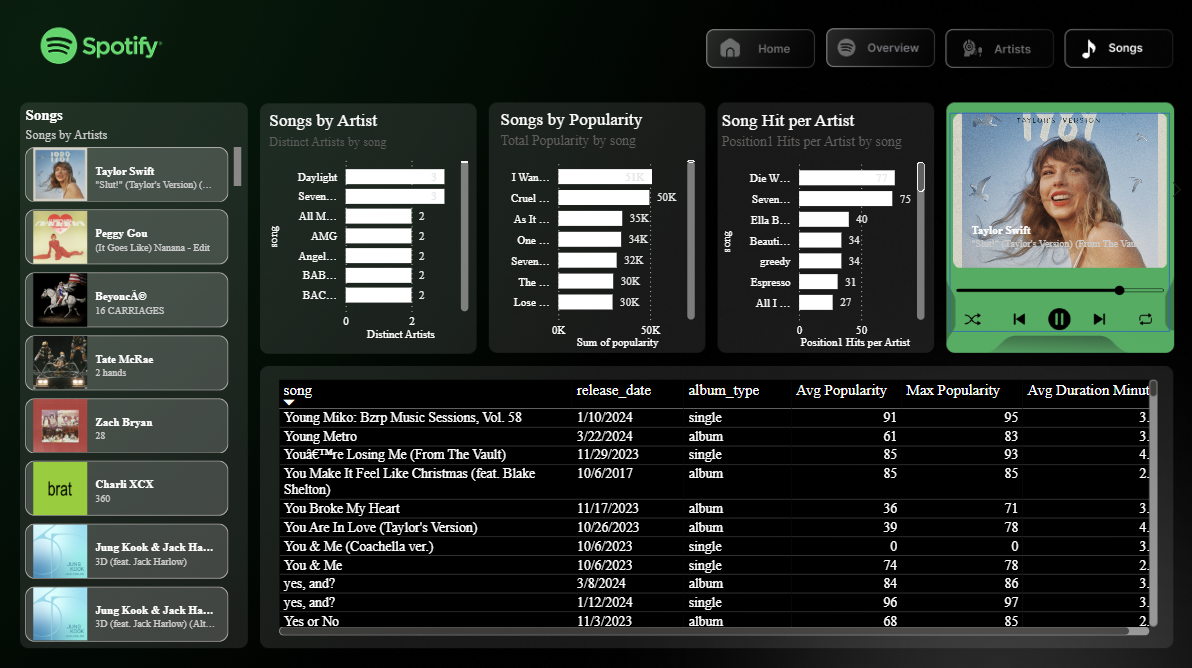

What the dashboard file says about the page in this screenshot:
{"tool":"powerbi","page":{"name":"Songs","canvas":[1280,720],"ordinal":3},"visuals":[{"type":"advancedSlicerVisual","title":"Songs","fields":{"Values":["Top-50-World.song"]},"box":[25,115,240,580],"z":0},{"type":"advancedSlicerVisual","title":"Songs","fields":{"Values":["Top-50-World.song"]},"box":[993.8,115,280,178.8],"z":1000},{"type":"image","box":[1008.6,259.5,250.6,140],"z":2000},{"type":"shape","box":[1016.7,121.7,235,233.8],"z":3000},{"type":"clusteredBarChart","title":"Songs by Artist","fields":{"Category":["Top-50-World.song"],"Y":["_Measures.Distinct Artists"]},"box":[284.8,119.1,222.7,249.8],"z":4000},{"type":"clusteredBarChart","title":"Songs by Popularity","fields":{"Category":["Top-50-World.song"],"Y":["Sum(Top-50-World.popularity)"]},"box":[532.5,117.5,217.5,260],"z":5000},{"type":"clusteredBarChart","title":"Song Hit per Artist","fields":{"Y":["_Measures.Position1 Hits per Artist"],"Category":["Top-50-World.song"]},"box":[767.6,119.1,226.5,258.9],"z":6000},{"type":"actionButton","box":[760.4,31.5,108.8,40],"z":7000},{"type":"actionButton","box":[889.2,31.5,108.8,40],"z":8000},{"type":"actionButton","box":[1014.2,31.5,108.8,40],"z":9000},{"type":"actionButton","box":[1141.7,31.5,108.8,40],"z":10000},{"type":"tableEx","fields":{"Values":["Top-50-World.song","Top-50-World.release_date","Top-50-World.album_type","_Measures.Avg Popularity","_Measures.Max Popularity","_Measures.Avg Duration Minutes"]},"box":[294.4,401.7,948.3,282.3],"z":11000}]}

Visuals, with their boxes in screenshot pixels (x1, y1, x2, y2), scaled from the page's 1280x720 canvas onto the 1192x668 screenshot:
"Songs" advancedSlicerVisual: [23, 107, 247, 645]
"Songs" advancedSlicerVisual: [925, 107, 1186, 273]
image: [939, 241, 1173, 371]
shape: [947, 113, 1166, 330]
"Songs by Artist" clusteredBarChart: [265, 110, 473, 342]
"Songs by Popularity" clusteredBarChart: [496, 109, 698, 350]
"Song Hit per Artist" clusteredBarChart: [715, 110, 926, 351]
actionButton: [708, 29, 809, 66]
actionButton: [828, 29, 929, 66]
actionButton: [944, 29, 1046, 66]
actionButton: [1063, 29, 1165, 66]
tableEx - Top-50-World.song x Top-50-World.release_date: [274, 373, 1157, 635]
